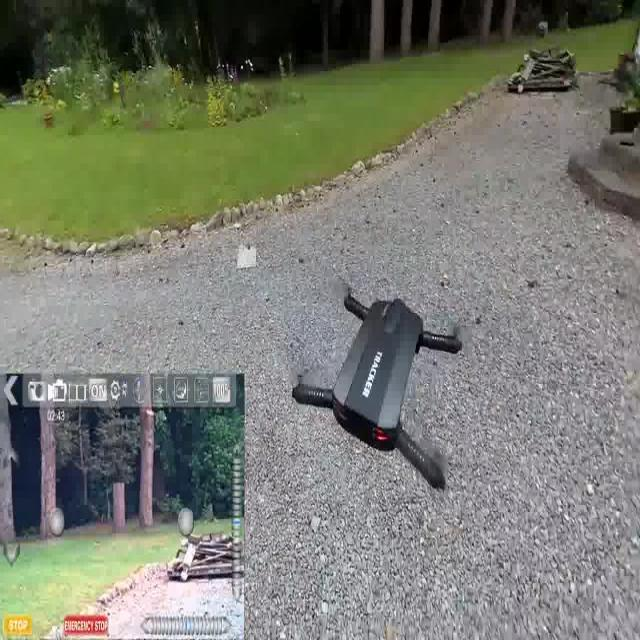drones: (278, 232, 485, 535)
